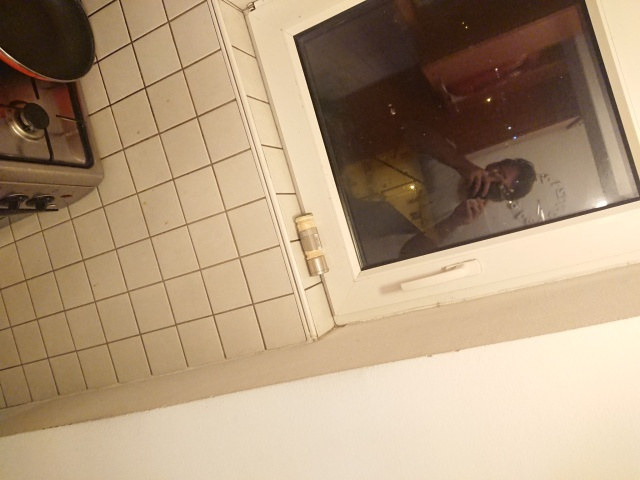Kotanyi Garlic Granules 70g: (292, 211, 331, 278)
